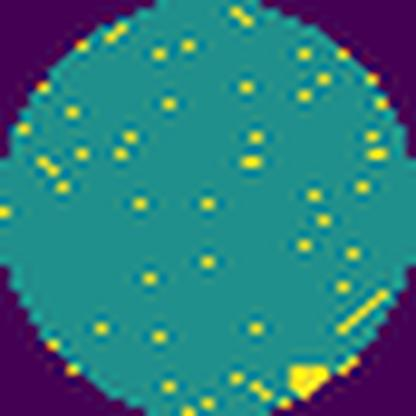Edge-Loc: (284, 360, 338, 395)
